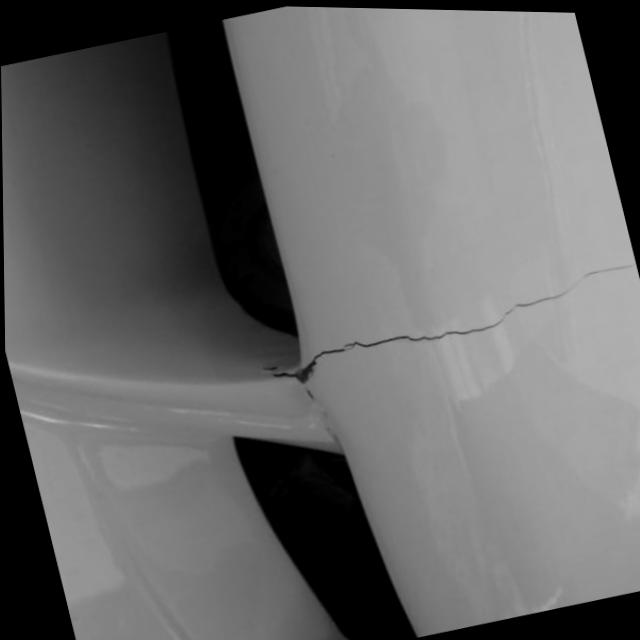Paint-Crack: (261, 258, 638, 401)
